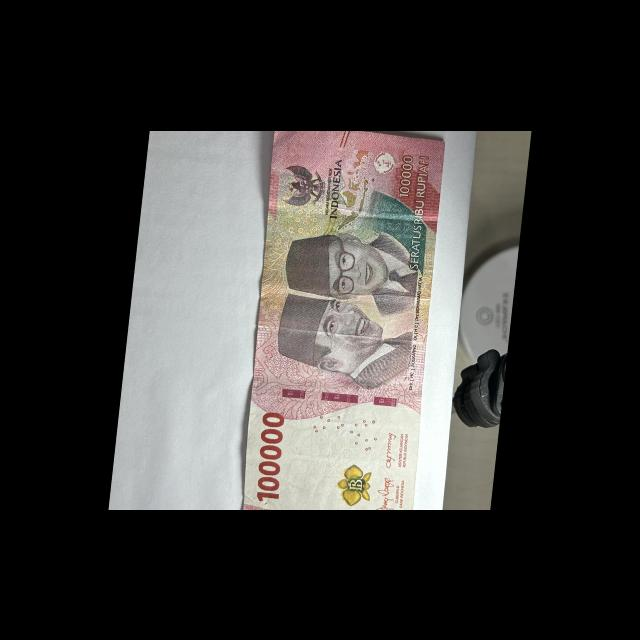Palsu-100k: (237, 120, 449, 525)
Tinta-Palsu-100k: (337, 463, 373, 506)
